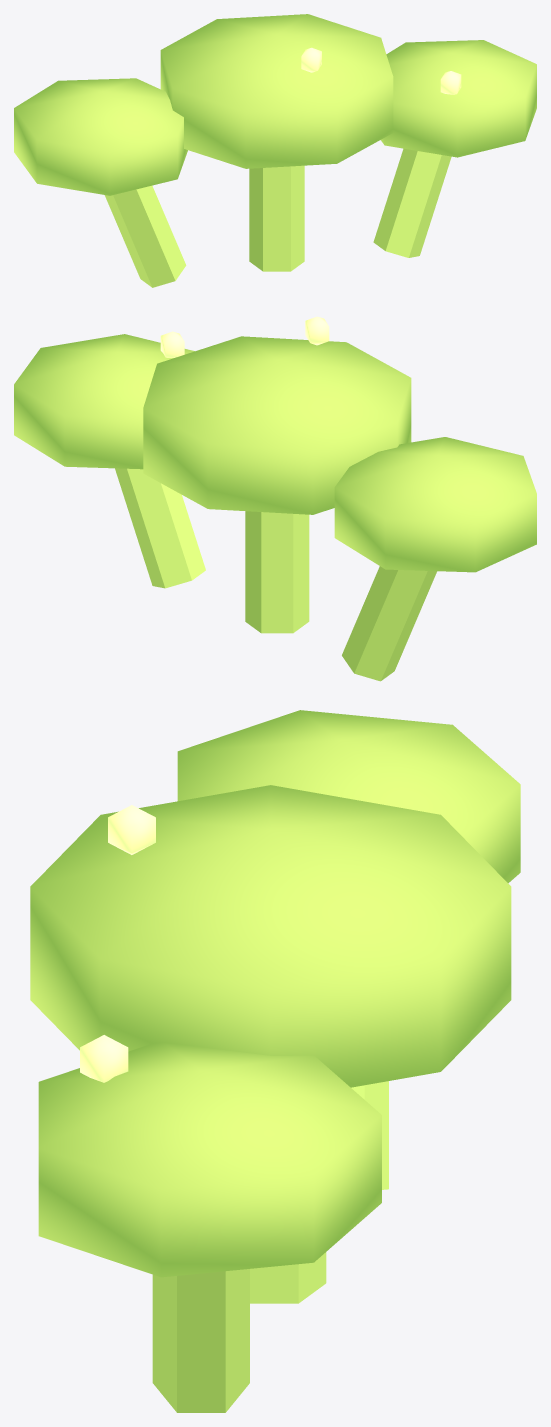
The model's file is dc_mushroom_crown.glb.
3 views of the same model, one above another, from view 1: azimuth 30°, elevation 25°; view 2: azimuth 150°, elevation 25°; view 3: azimuth 270°, elevation 25° (orthographic). The views are drawn at different scales.
Parts seen in each view (by area): view 1: part.dc_mushroom_crown; view 2: part.dc_mushroom_crown; view 3: part.dc_mushroom_crown.
Boxes of the visible parts, left/top/right/bottom form: part.dc_mushroom_crown: left=14, top=14, right=536, bottom=287; part.dc_mushroom_crown: left=14, top=316, right=536, bottom=681; part.dc_mushroom_crown: left=30, top=710, right=520, bottom=1412.
Bounding box in the file's own units: 0.7733 × 0.3913 × 0.3531.
